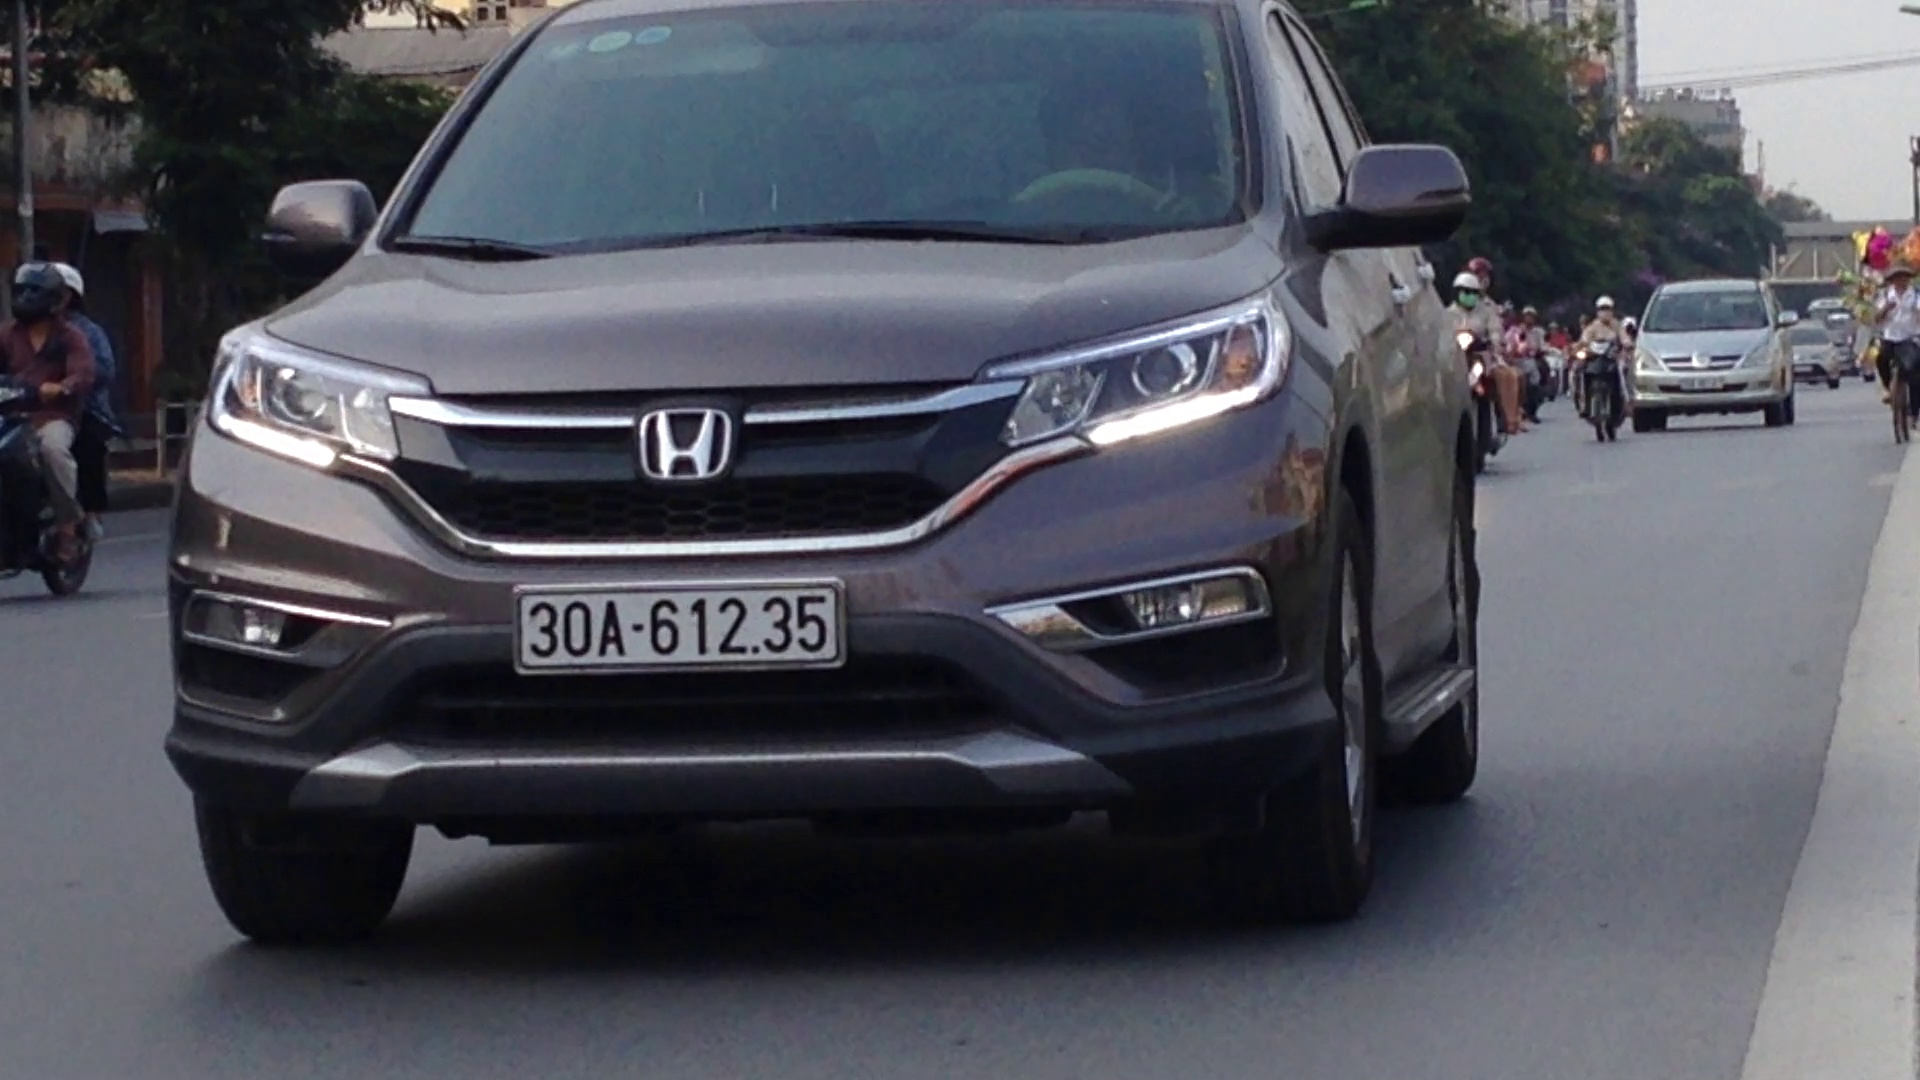vehicle-plate: (508, 574, 852, 679)
